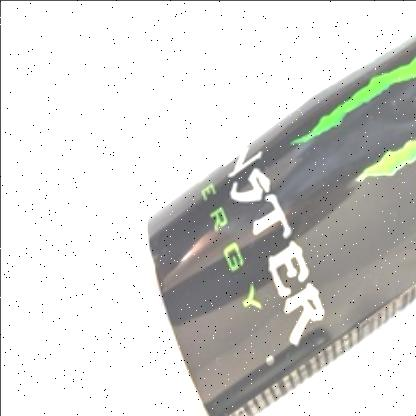Can: (134, 38, 416, 416)
